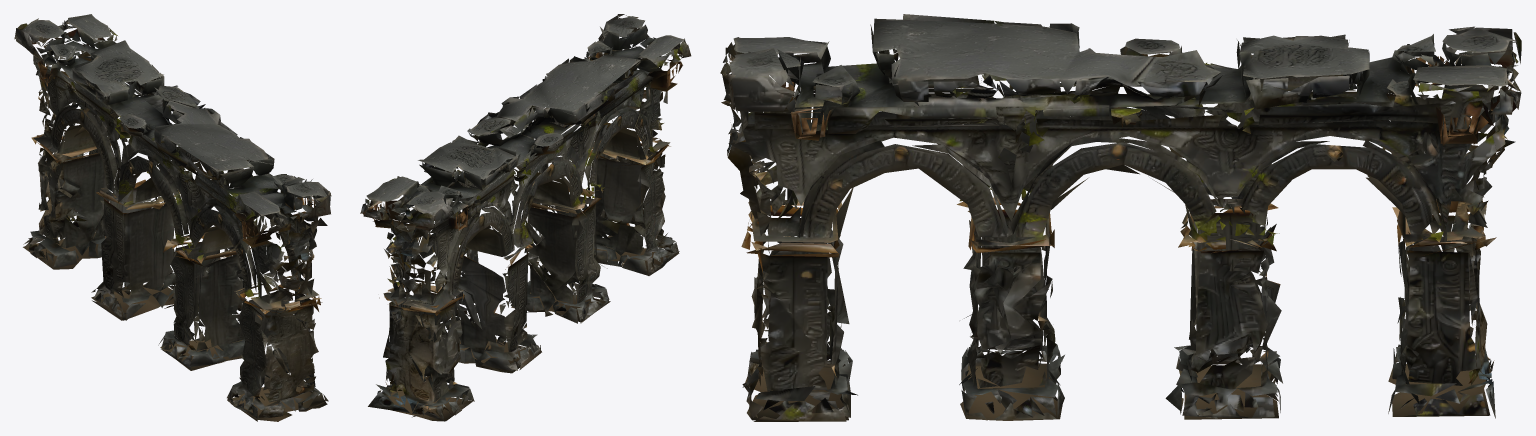
Rendered from ch6_sunken_aqueduct_arches_LOD2.glb.
The picture shows the model from 3 angles, left to right: view 1: azimuth 30°, elevation 25°; view 2: azimuth 150°, elevation 25°; view 3: azimuth 270°, elevation 25°; orthographic projection. The views are drawn at different scales.
Parts seen in each view (by area): view 1: tripo_node_0f47f7d9-d05a-4230-95cf-df8e52c144d8; view 2: tripo_node_0f47f7d9-d05a-4230-95cf-df8e52c144d8; view 3: tripo_node_0f47f7d9-d05a-4230-95cf-df8e52c144d8.
Boxes of the visible parts, left/top/right/bottom form: tripo_node_0f47f7d9-d05a-4230-95cf-df8e52c144d8: left=14, top=14, right=331, bottom=421; tripo_node_0f47f7d9-d05a-4230-95cf-df8e52c144d8: left=360, top=14, right=691, bottom=421; tripo_node_0f47f7d9-d05a-4230-95cf-df8e52c144d8: left=720, top=14, right=1521, bottom=421.
Size of the model in its own units: 0.1985 by 0.4948 by 1.01.
Materials: 1 (1 with a texture image).
